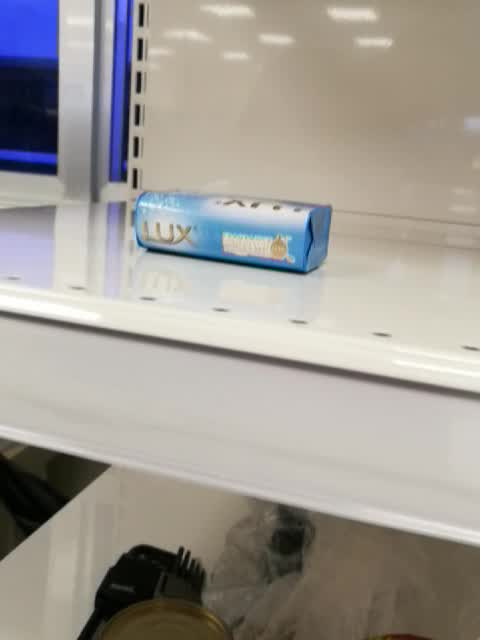soap: (134, 190, 333, 275)
